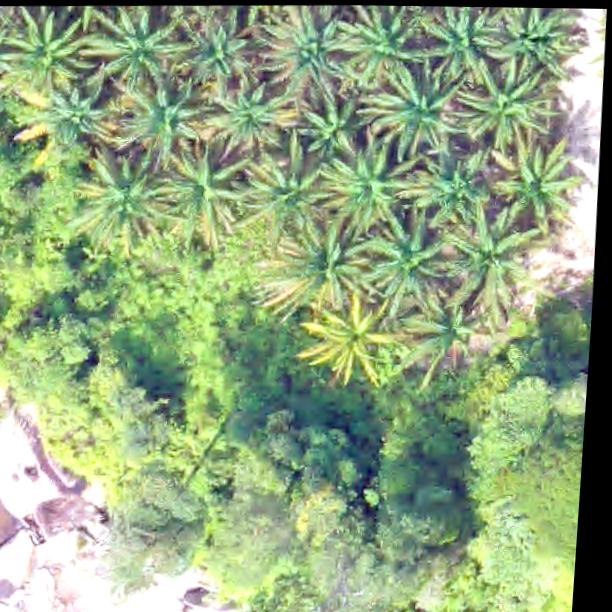oilpalm: (457, 57, 565, 152), (486, 135, 587, 235), (236, 142, 330, 247), (299, 291, 402, 386), (153, 141, 249, 240), (71, 152, 168, 249), (361, 215, 457, 313), (439, 212, 546, 299), (275, 219, 372, 313), (264, 4, 358, 100), (89, 3, 185, 95), (474, 7, 588, 81), (369, 64, 461, 155), (335, 5, 432, 88), (0, 10, 94, 95), (400, 286, 488, 376), (171, 8, 263, 94), (293, 88, 377, 175), (321, 142, 404, 229), (208, 76, 298, 155), (120, 78, 208, 157), (411, 6, 505, 77), (423, 144, 496, 228), (36, 75, 114, 152)
